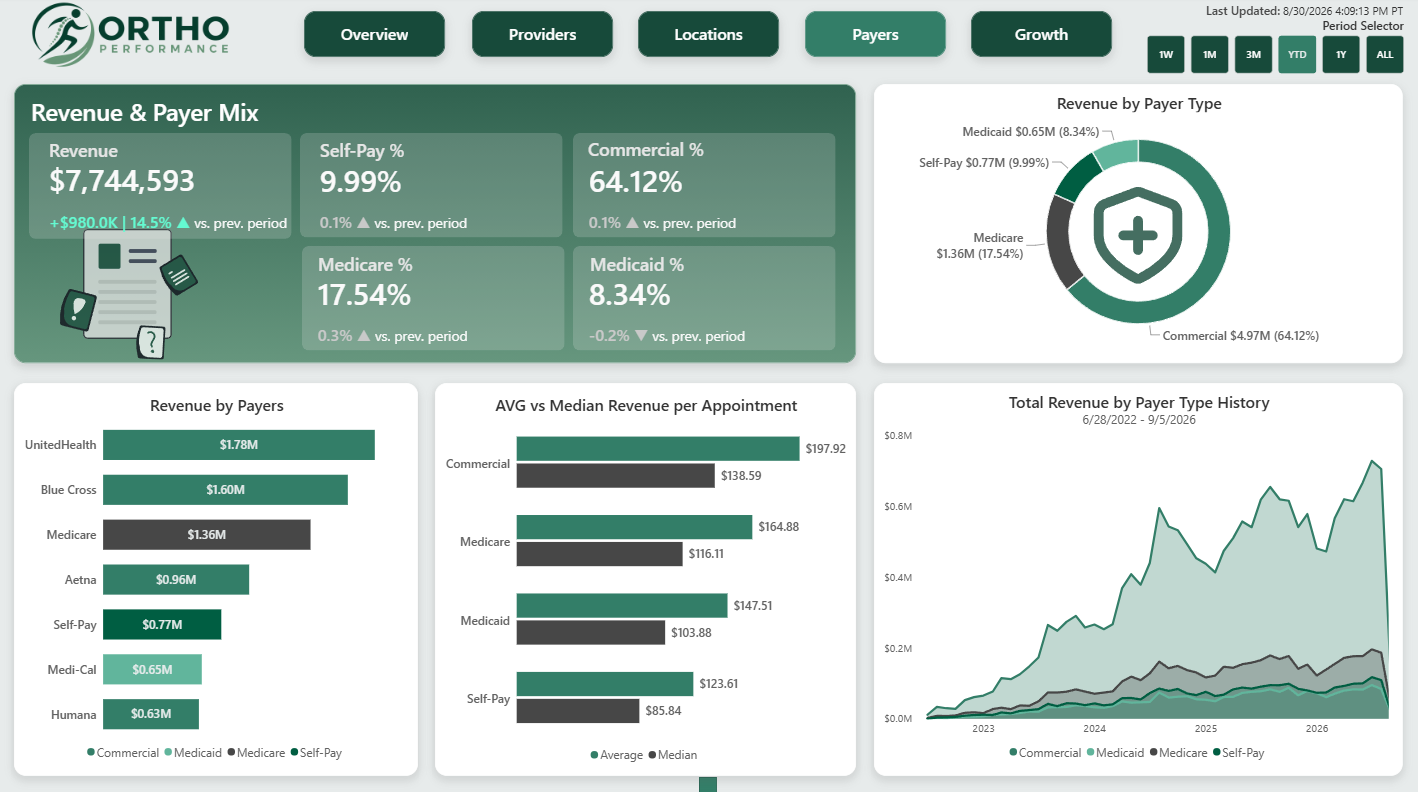

Layout of this report page (visuals, bound fields, positions):
{"tool":"powerbi","page":{"name":"Page 5","canvas":[1920,1080],"ordinal":4},"visuals":[{"type":"image","box":[24.2,18.1,294.8,104.8],"z":0},{"type":"cardVisual","fields":{"Data":["_Measures.Last Updated At"]},"box":[1704.1,19.4,202.6,34.8],"z":0,"group":"g1"},{"type":"textbox","box":[415.7,18.1,190.1,62.9],"z":1000},{"type":"textbox","box":[1616.1,18.1,116.4,39.3],"z":1000,"group":"g1"},{"type":"textbox","box":[641,18.1,190.1,62.9],"z":2000},{"type":"textbox","box":[1313.8,18.1,190.1,62.9],"z":3000},{"type":"textbox","box":[864.8,18.1,190.1,62.9],"z":4000},{"type":"textbox","box":[1090,18.1,190.1,62.9],"z":5000},{"type":"group","id":"g1","title":"Group 1","box":[1616.1,18.1,291.8,39.3],"z":6000},{"type":"shape","box":[606.2,0,34.8,104.3],"z":7000},{"type":"shape","box":[1279,0,34.8,104.3],"z":8000},{"type":"shape","box":[0,0,24.4,104],"z":9000},{"type":"shape","box":[1895.6,0,24.4,104],"z":10000},{"type":"donutChart","fields":{"Category":["public payers.payer_type"],"Y":["_Measures.Total Revenue"]},"box":[24.6,157.2,857.8,857.8],"z":11000},{"type":"columnChart","fields":{"Category":["public payers.payer_name"],"Y":["_Measures.Total Revenue"]},"box":[986.5,486.6,908,557.2],"z":12000},{"type":"lineChart","fields":{"Category":["Date.Calendar.Year","Date.Calendar.Month"],"Y":["_Measures.Self-Pay Revenue %"]},"box":[986.5,123.1,908.9,401.4],"z":13000}]}

Visuals, with their boxes in screenshot pixels (x1, y1, x2, y2), scaled from the page's 1920x1080 canvas onto the 1418x792 screenshot:
image: <box>18,13,236,90</box>
cardVisual - _Measures.Last Updated At: <box>1259,14,1408,40</box>
textbox: <box>307,13,447,59</box>
textbox: <box>1194,13,1280,42</box>
textbox: <box>473,13,614,59</box>
textbox: <box>970,13,1111,59</box>
textbox: <box>639,13,779,59</box>
textbox: <box>805,13,945,59</box>
"Group 1" group: <box>1194,13,1409,42</box>
shape: <box>448,0,473,76</box>
shape: <box>945,0,970,76</box>
shape: <box>0,0,18,76</box>
shape: <box>1400,0,1417,76</box>
donutChart - public payers.payer_type x _Measures.Total Revenue: <box>18,115,652,744</box>
columnChart - public payers.payer_name x _Measures.Total Revenue: <box>729,357,1399,765</box>
lineChart - Date.Calendar.Year x Date.Calendar.Month: <box>729,90,1400,385</box>
